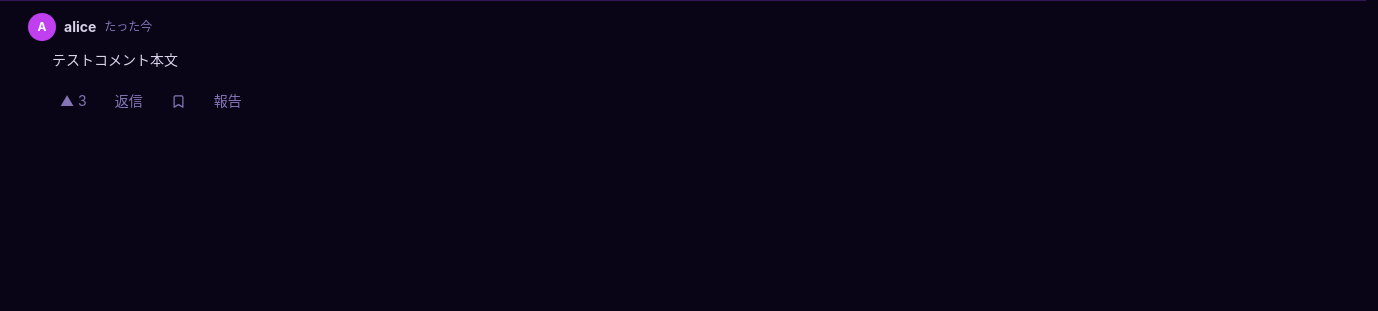
Test: CommentItem › 返信ボタン押下で返信フォームが表示される
The image size is (1378, 311).
Click the button "返信" at point(129, 101), box [107,79,151,123]
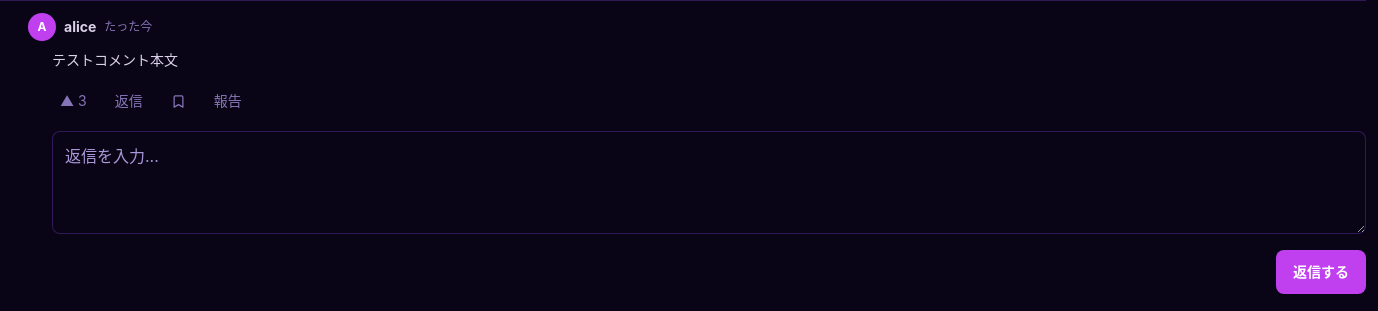
Result: the text box with placeholder "返信を入力..." is shown at [52,131,1366,234]
